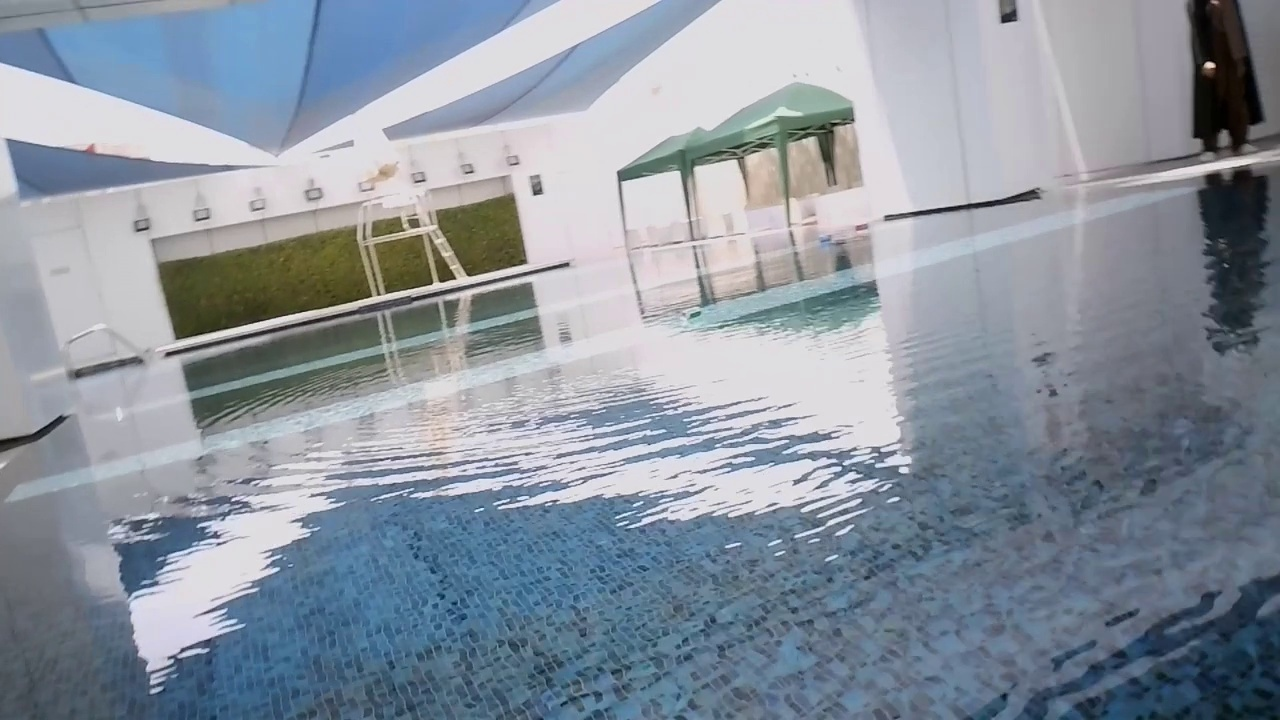debris: (680, 301, 704, 323), (815, 232, 835, 245), (852, 222, 870, 232)
